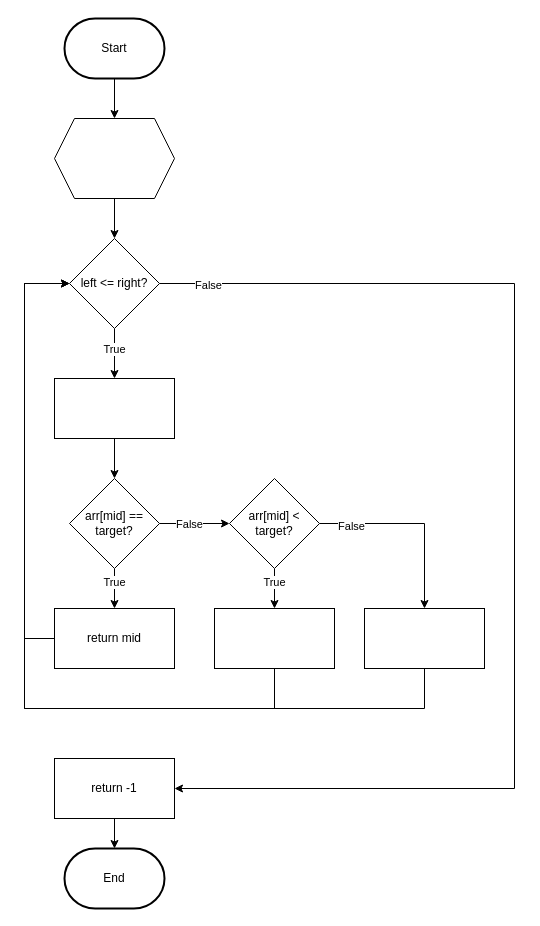
Image size: 540x926. Some labels were removed from this diagram. Each missing label, with the box of its shape:
int arr[], left, right, target, mid: (54, 118, 174, 198)
left = mid + 1: (214, 608, 334, 668)
mid = left+ (right- left) / 2: (54, 378, 174, 438)
right = mid - 1: (364, 608, 484, 668)
